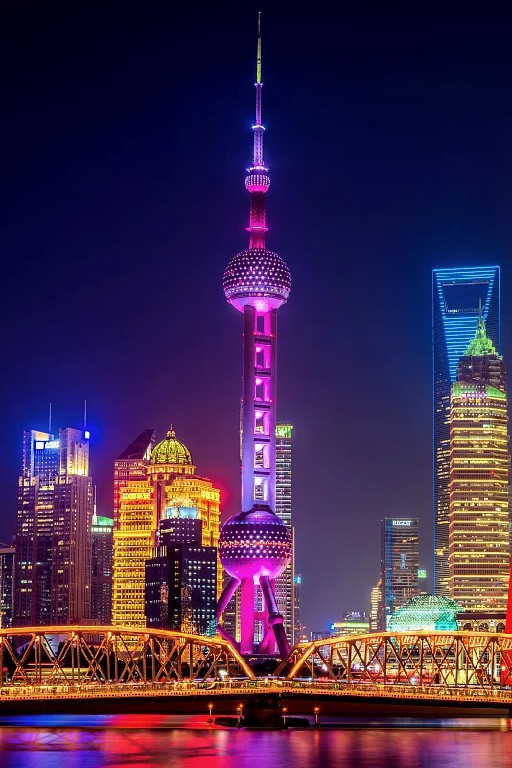Oriental: (218, 7, 292, 656)
